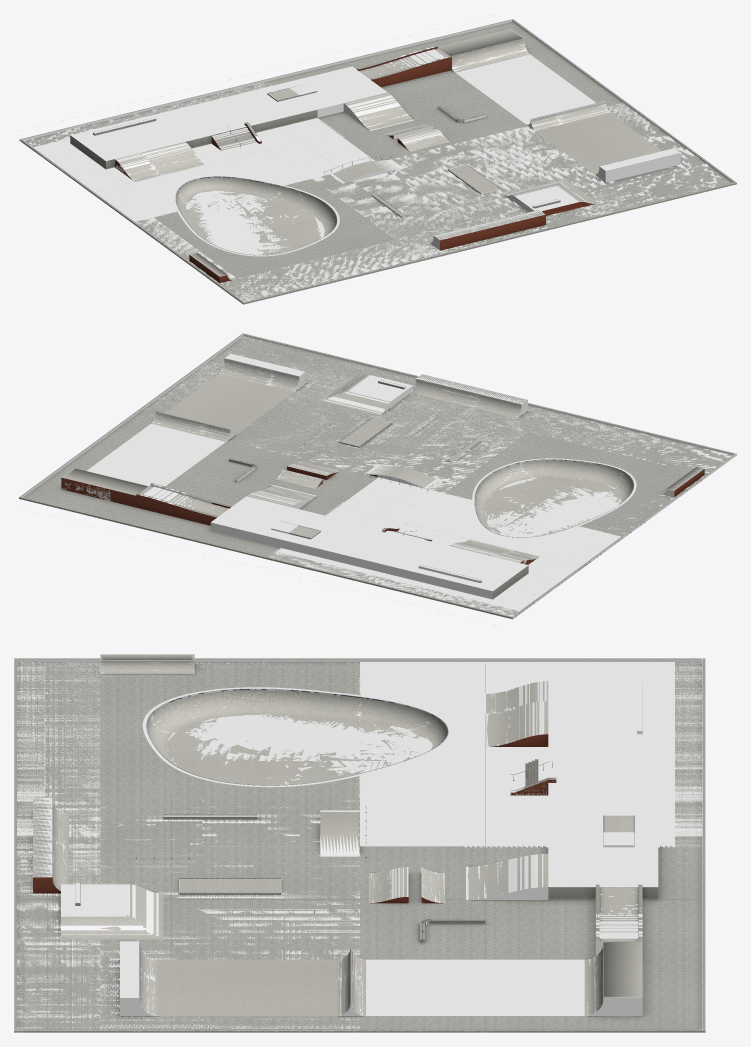
File: switchyard.glb
The picture shows the model from 3 angles, top to bottom: view 1: azimuth 30°, elevation 25°; view 2: azimuth 150°, elevation 25°; view 3: azimuth 270°, elevation 25°; orthographic projection. The views are drawn at different scales.
Visible parts, largest first — view 1: COL_Plaza, ENV_slab_cell1_L0, COL_Gallery, ENV_slab_cell3_L0, COL_FlowBowl, COL_SpineLane, ENV_slab_cell3_L1, ENV_slab_cell1_L1, ENV_slab_cell3_L2, ENV_slab_cell1_L2, ENV_slab_cell210_L0, ENV_slab_cell2113_L0 (+49 smaller); view 2: COL_Plaza, ENV_slab_cell3_L0, COL_Gallery, ENV_slab_cell1_L0, COL_FlowBowl, ENV_slab_cell3_L1, COL_SpineLane, ENV_slab_cell1_L1, ENV_slab_cell1_L2, ENV_slab_cell3_L2, ENV_slab_cell2113_L0, ENV_slab_cell210_L0 (+46 smaller); view 3: COL_Plaza, ENV_slab_cell3_L0, ENV_slab_cell1_L0, COL_Gallery, COL_FlowBowl, COL_SpineLane, ENV_slab_cell3_L1, ENV_slab_cell1_L1, ENV_slab_cell1_L2, ENV_slab_cell210_L0, ENV_slab_cell3_L2, ENV_riding_cell300_L0 (+56 smaller).
Boxes of the visible parts, x1,y1,x2,y2 form: COL_Plaza: (24,82,732,301); ENV_slab_cell1_L0: (267,21,622,160); COL_Gallery: (70,66,387,161); ENV_slab_cell3_L0: (392,103,731,242); COL_FlowBowl: (121,154,339,256); COL_SpineLane: (452,39,680,182); ENV_slab_cell3_L1: (395,103,730,241); ENV_slab_cell1_L1: (271,23,619,159); ENV_slab_cell3_L2: (392,103,729,241); ENV_slab_cell1_L2: (270,23,621,159); ENV_slab_cell210_L0: (136,211,304,296); ENV_slab_cell2113_L0: (342,200,466,258); COL_Plaza: (136,336,731,616); ENV_slab_cell3_L0: (133,336,471,471); COL_Gallery: (210,496,528,599); ENV_slab_cell1_L0: (24,417,377,557); COL_FlowBowl: (411,458,636,555); ENV_slab_cell3_L1: (137,338,467,472); COL_SpineLane: (61,353,305,501); ENV_slab_cell1_L1: (25,418,374,555); ENV_slab_cell1_L2: (25,417,377,556); ENV_slab_cell3_L2: (133,337,469,473); ENV_slab_cell2113_L0: (430,408,569,460); ENV_slab_cell210_L0: (578,445,722,536); COL_Plaza: (17,662,702,1028); ENV_slab_cell3_L0: (17,846,359,1028); ENV_slab_cell1_L0: (360,845,702,1028); COL_Gallery: (548,674,658,887); COL_FlowBowl: (142,677,461,796); COL_SpineLane: (120,941,642,1015); ENV_slab_cell3_L1: (17,846,359,1028); ENV_slab_cell1_L1: (360,846,702,1028); ENV_slab_cell1_L2: (360,846,702,1028); ENV_slab_cell210_L0: (44,662,360,714); ENV_slab_cell3_L2: (17,846,359,1028); ENV_riding_cell300_L0: (54,839,359,980).
Size of what is drawn, in the model's own units: 112 by 5.64 by 92.01.
9 materials, 5 textured.
